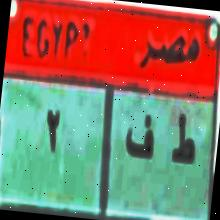2: (40, 103, 65, 158)
Taa: (167, 111, 200, 184)
faa: (120, 112, 160, 170)
